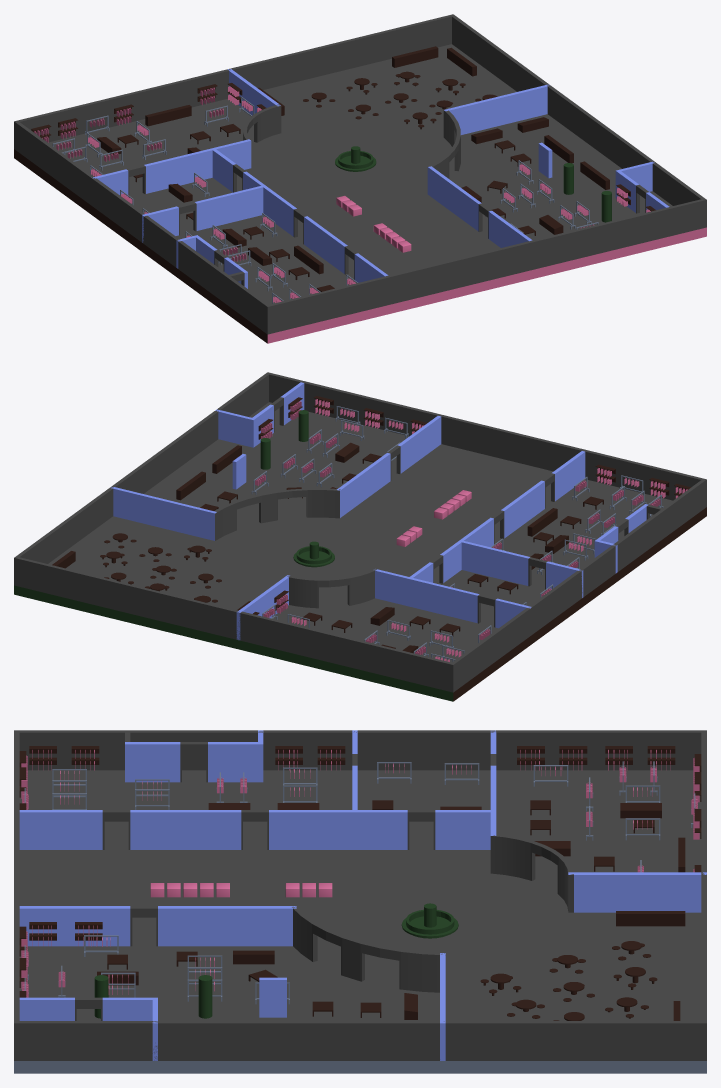
File: Market_Scene_01.FBX
3 renders of one model, top to bottom at view 1: azimuth 30°, elevation 25°; view 2: azimuth 150°, elevation 25°; view 3: azimuth 270°, elevation 25°, orthographic. The views are drawn at different scales.
Parts seen in each view (by area): view 1: Base_floor, walls_main, Arc002, Arc001, fountain_01, bar_006, bar_007, Wall_tile_021, Wall_tile_050, Wall_tile_025, Wall_tile_029, Wall_tile_057 (+3 smaller); view 2: Base_floor, walls_main, Arc002, Arc001, fountain_01, Wall_tile_021, Wall_tile_030, Wall_tile_050, Wall_tile_051, Wall_tile_057, Wall_tile_058, Wall_tile_059 (+7 smaller); view 3: Base_floor, walls_main, Arc002, Arc001, fountain_01, Wall_tile_027, Wall_tile_035, Wall_tile_115, Wall_tile_117, Wall_tile_01, Wall_tile_013, Wall_tile_016 (+34 smaller).
Part boxes in pixels (bbox=[...]): Base_floor: bbox=[14, 44, 706, 343]; walls_main: bbox=[14, 14, 706, 334]; Arc002: bbox=[428, 110, 460, 178]; Arc001: bbox=[243, 104, 281, 142]; fountain_01: bbox=[335, 146, 376, 171]; bar_006: bbox=[392, 46, 438, 67]; bar_007: bbox=[145, 105, 191, 126]; Wall_tile_021: bbox=[230, 189, 249, 222]; Wall_tile_050: bbox=[479, 97, 498, 130]; Wall_tile_025: bbox=[195, 198, 214, 230]; Wall_tile_029: bbox=[514, 88, 533, 121]; Wall_tile_057: bbox=[144, 160, 163, 193]; Base_floor: bbox=[14, 402, 706, 701]; walls_main: bbox=[14, 372, 706, 692]; Arc002: bbox=[214, 488, 340, 540]; Arc001: bbox=[287, 568, 376, 608]; fountain_01: bbox=[293, 541, 334, 567]; Wall_tile_021: bbox=[475, 544, 494, 577]; Wall_tile_030: bbox=[144, 495, 163, 527]; Wall_tile_050: bbox=[162, 499, 181, 532]; Wall_tile_051: bbox=[425, 581, 443, 614]; Wall_tile_057: bbox=[460, 590, 479, 623]; Wall_tile_058: bbox=[442, 585, 461, 618]; Wall_tile_059: bbox=[407, 577, 426, 610]; Base_floor: bbox=[14, 770, 706, 1073]; walls_main: bbox=[14, 730, 706, 1060]; Arc002: bbox=[292, 906, 444, 992]; Arc001: bbox=[490, 834, 573, 912]; fountain_01: bbox=[401, 903, 458, 938]; Wall_tile_027: bbox=[213, 906, 241, 946]; Wall_tile_035: bbox=[102, 906, 130, 946]; Wall_tile_115: bbox=[152, 742, 180, 782]; Wall_tile_117: bbox=[235, 742, 263, 782]; Wall_tile_01: bbox=[19, 810, 47, 849]; Wall_tile_013: bbox=[213, 810, 241, 849]; Wall_tile_016: bbox=[296, 810, 324, 849].
Bounding box in the file's own units: 50 × 4 × 50.
